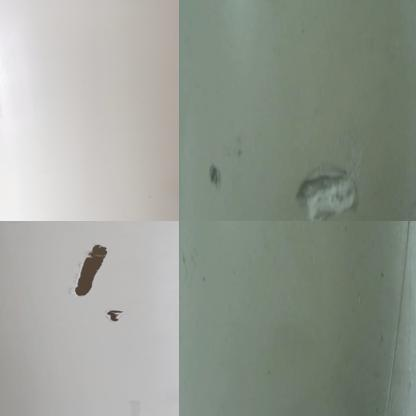kongdong: (67, 240, 111, 298), (97, 303, 128, 328)
sunshang: (388, 221, 410, 416), (292, 164, 358, 223)
